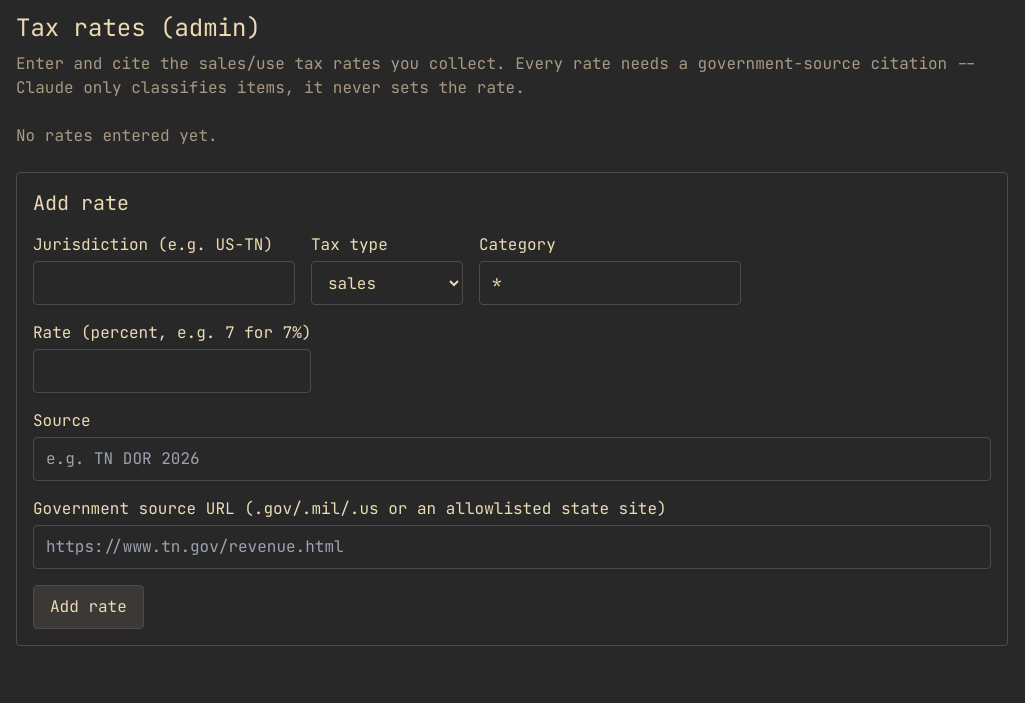
Test: AdminTaxRates (integration) › shows the server's error message on a 400
Expected: the text "No rates entered yet." is shown, [16,125,218,146]
Type "US-TN" into the field labelled "Jurisdiction (e.g. US-TN)". click: (164, 283)
box: [33,261,295,305]
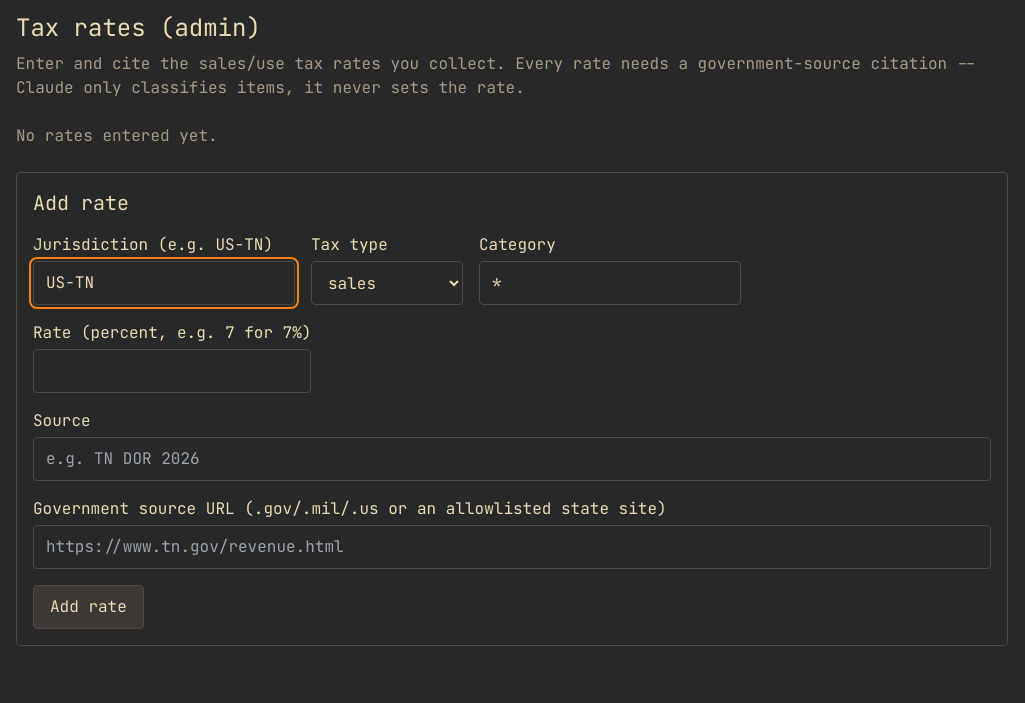
Type "7" into the number field labelled "Rate (percent, e.g. 7 for 7%)". click: (172, 371)
box: [33,349,311,393]
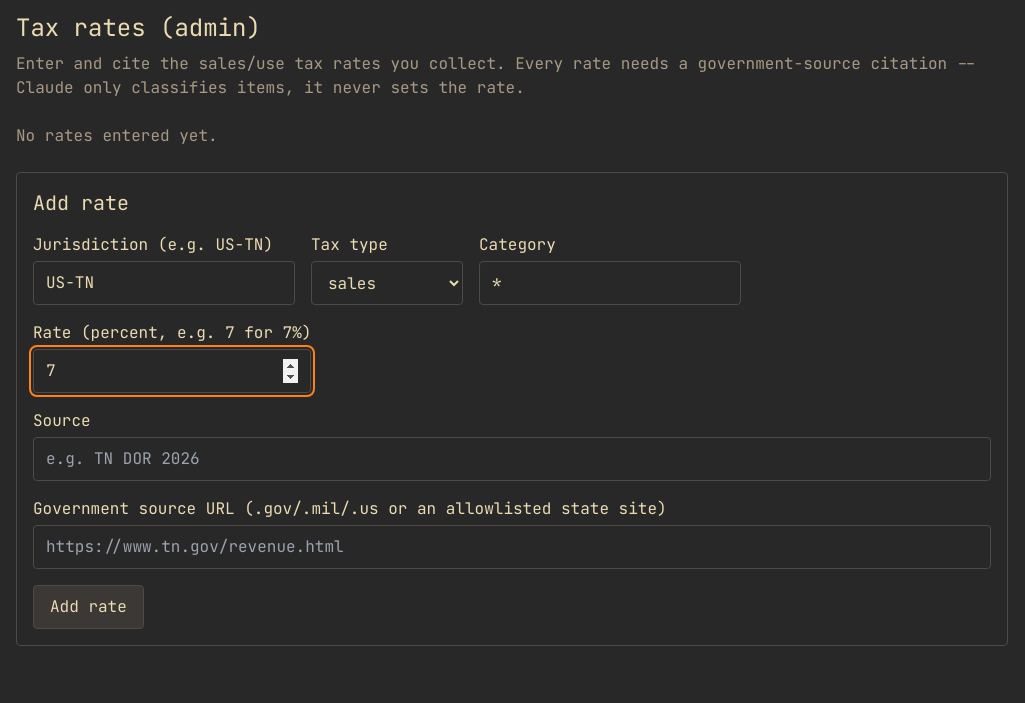
Type "some blog" into the field labelled "Source". click: (512, 459)
box: [33,437,991,481]
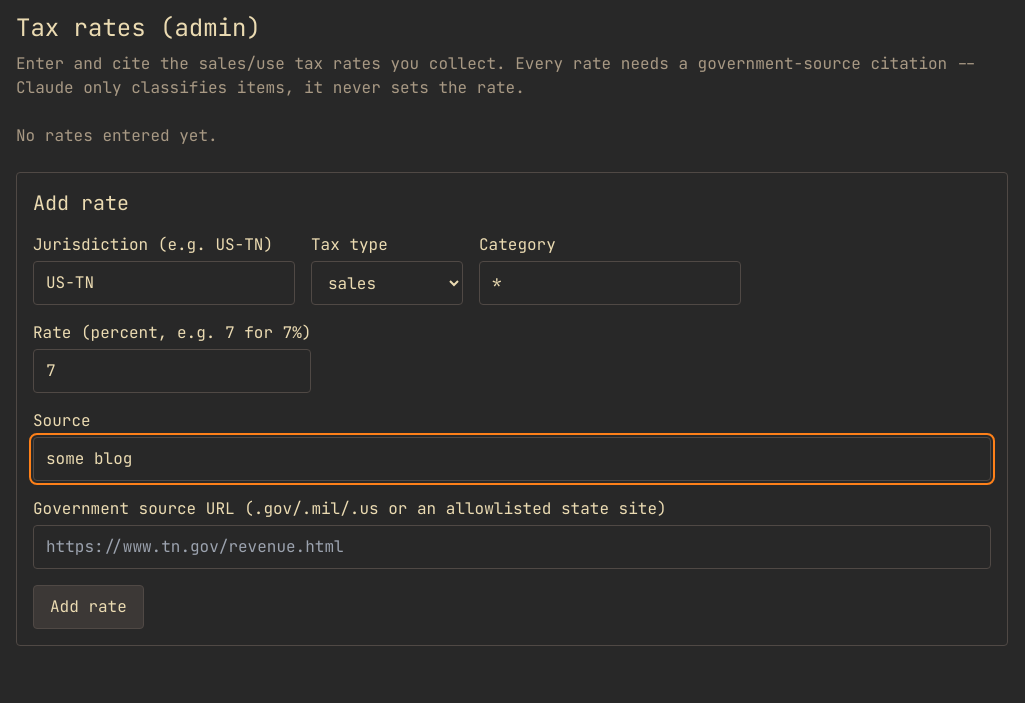
Type "https://example.com" into the field labelled "Government source URL (.gov/.mil/.us or an allowlisted state site)". click: (512, 547)
box: [33,525,991,569]
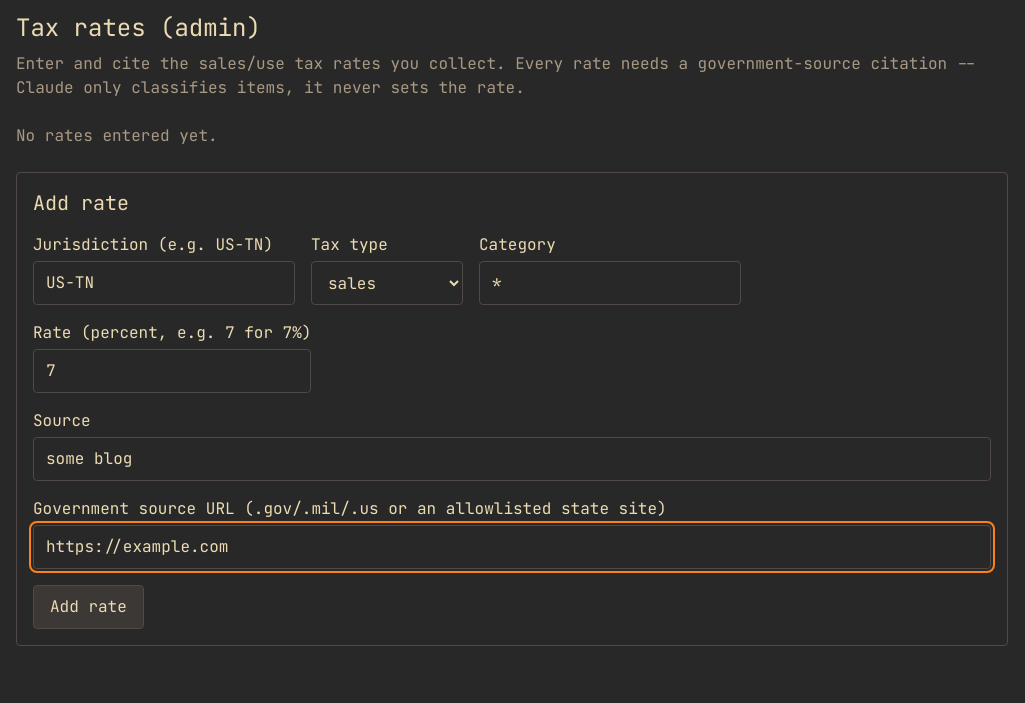
Click the button "Add rate". click: click(88, 607)
box: [33,585,144,629]
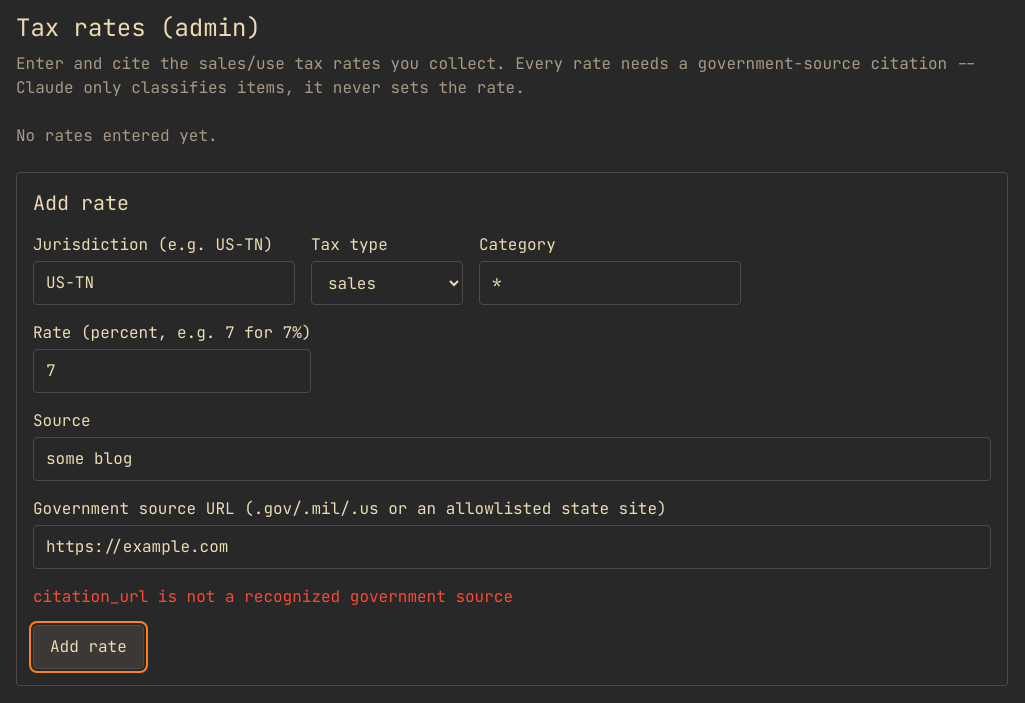
Result: the text "citation_url is not a recognized government source" is shown at [33,586,513,607]
